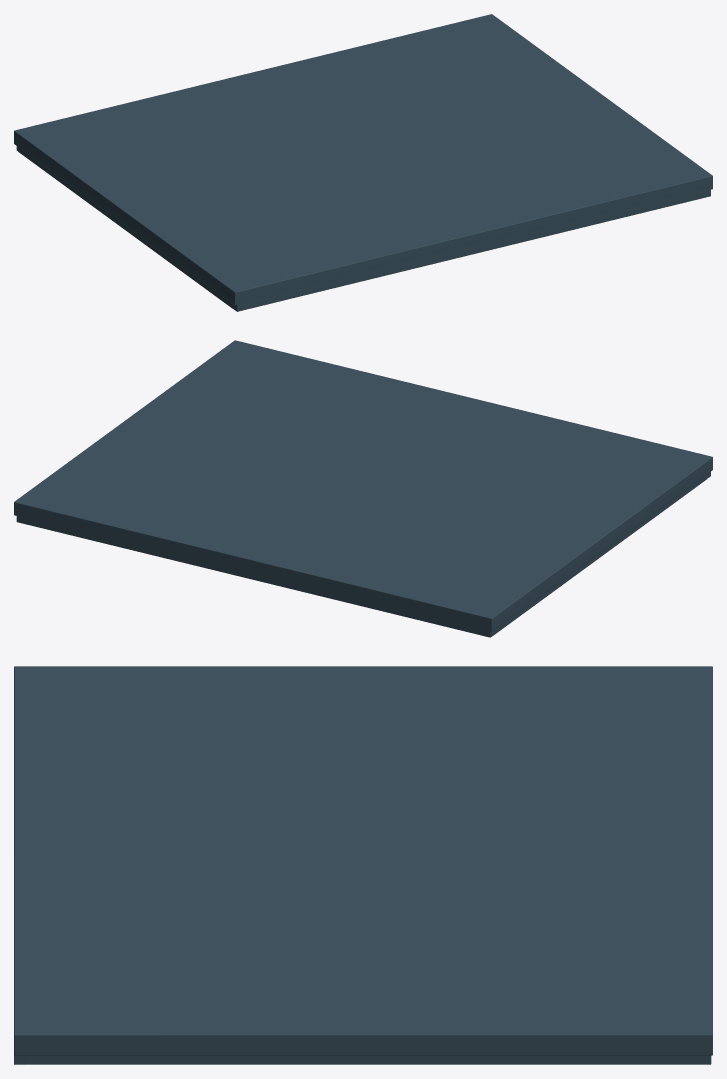
The model's file is roof-shell.glb.
The picture shows the model from 3 angles, top to bottom: view 1: azimuth 30°, elevation 25°; view 2: azimuth 150°, elevation 25°; view 3: azimuth 270°, elevation 25°; orthographic projection. The views are drawn at different scales.
Visible parts, largest first — view 1: Continuous solid roof deck.001; view 2: Continuous solid roof deck.001; view 3: Continuous solid roof deck.001.
Part boxes in pixels (box(x1,y1,x2,y2)): Continuous solid roof deck.001: box(14, 14, 712, 311); Continuous solid roof deck.001: box(14, 340, 712, 637); Continuous solid roof deck.001: box(14, 666, 712, 1064).
Bounding box in the file's own units: 9.55 × 0.385 × 7.65.
